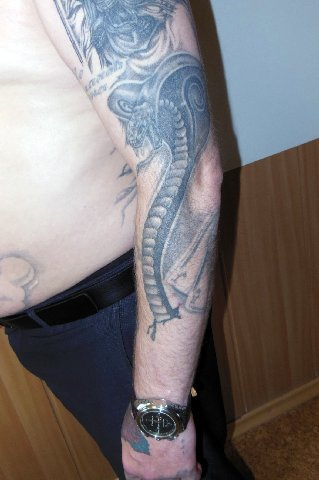tatu7_zmeya: (106, 62, 208, 327)
